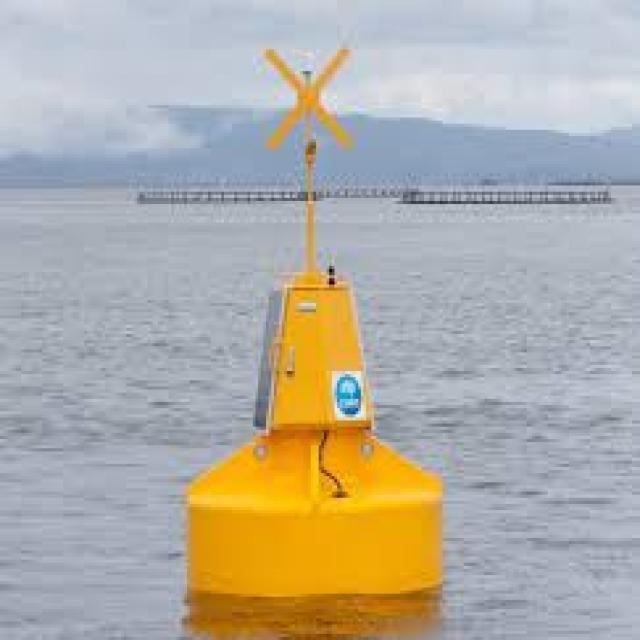2.5 sepcial mark: (165, 19, 459, 618)
